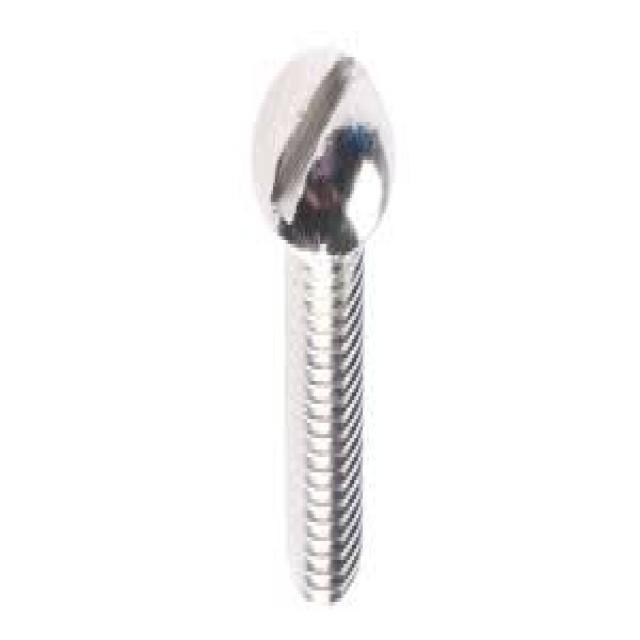Screw: (252, 46, 395, 610)
